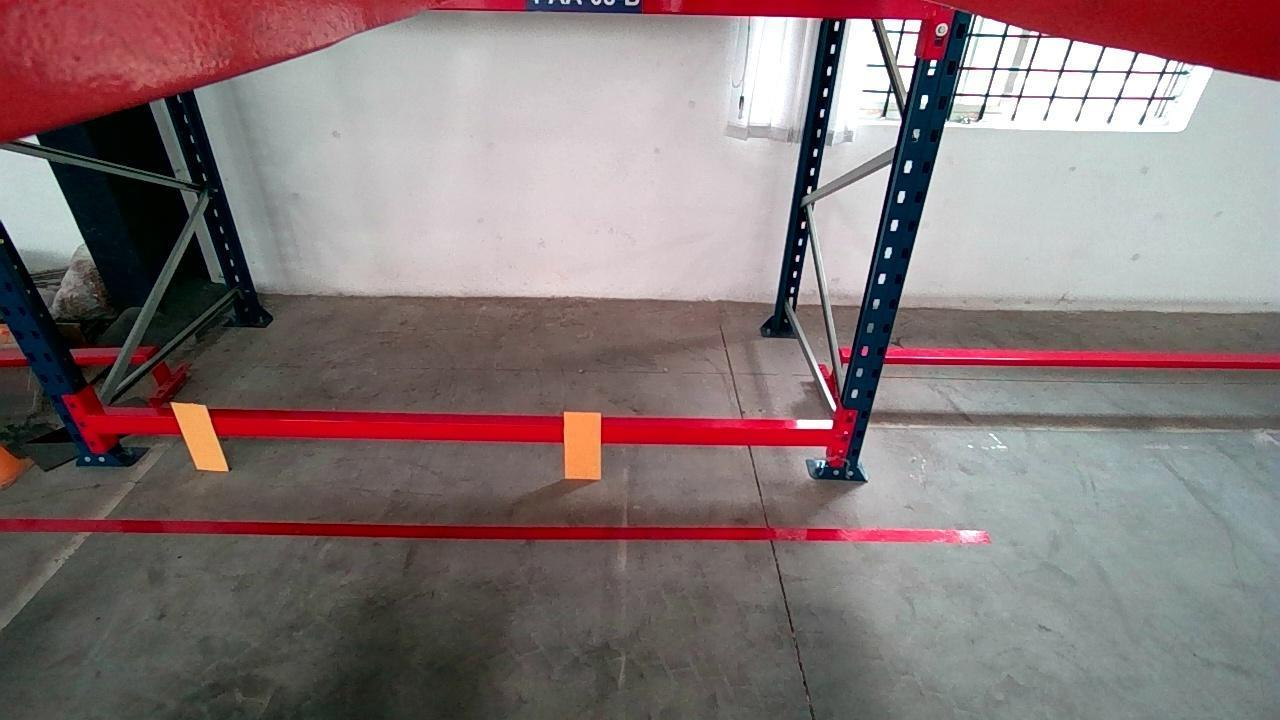h_rack: (89, 416, 835, 445)
orange_strip: (164, 403, 234, 470), (563, 411, 598, 479)
